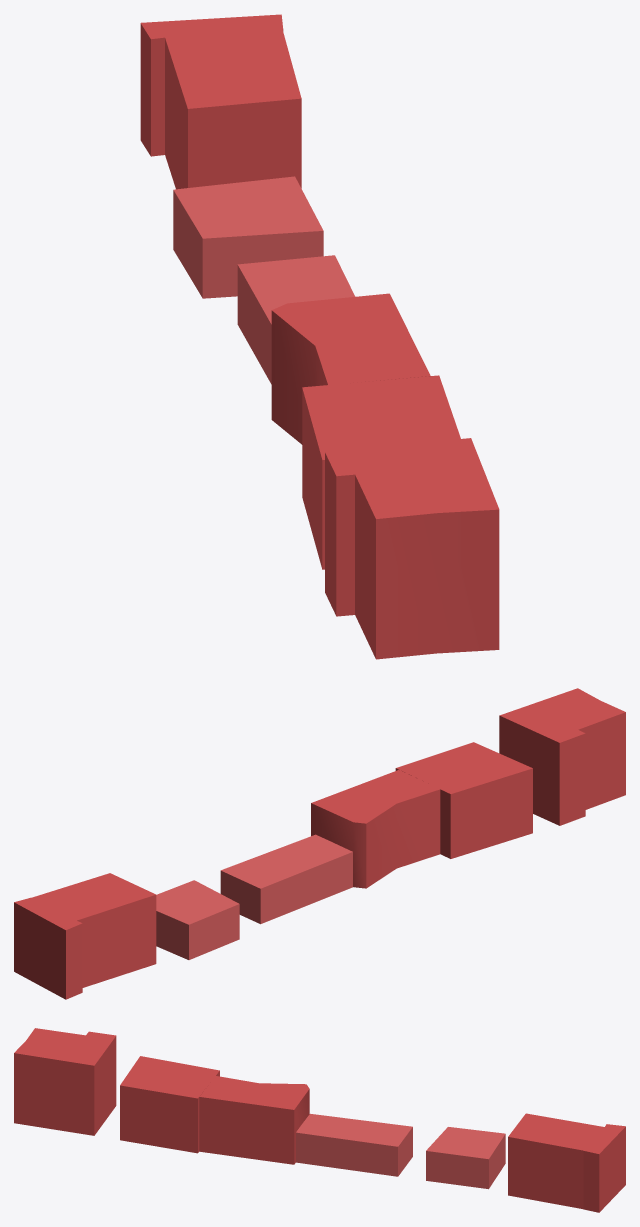
3 renders of one model, top to bottom at view 1: azimuth 30°, elevation 25°; view 2: azimuth 150°, elevation 25°; view 3: azimuth 270°, elevation 25°, orthographic. The views are drawn at different scales.
Visible parts, largest first — view 1: G7.001, B3.001, G9.001, B2.002, G8.001, B1.004; view 2: B3.001, G7.001, G9.001, G8.001, B1.004, B2.002; view 3: G7.001, B3.001, G9.001, G8.001, B1.004, B2.002.
Part boxes in pixels (x1,y1,x2,y2): G7.001: [325, 438, 499, 659]; B3.001: [140, 14, 301, 189]; G9.001: [271, 293, 430, 444]; B2.002: [173, 176, 323, 298]; G8.001: [302, 375, 460, 569]; B1.004: [237, 255, 355, 384]; B3.001: [14, 873, 156, 999]; G7.001: [499, 688, 625, 825]; G9.001: [311, 770, 440, 888]; G8.001: [395, 742, 532, 858]; B1.004: [220, 834, 352, 924]; B2.002: [156, 880, 239, 959]; G7.001: [14, 1028, 116, 1135]; B3.001: [508, 1113, 625, 1212]; G9.001: [199, 1076, 309, 1164]; G8.001: [120, 1056, 219, 1153]; B1.004: [296, 1113, 412, 1176]; B2.002: [426, 1127, 505, 1189].
Size of the model in its own units: 38.55 by 11 by 86.96.
